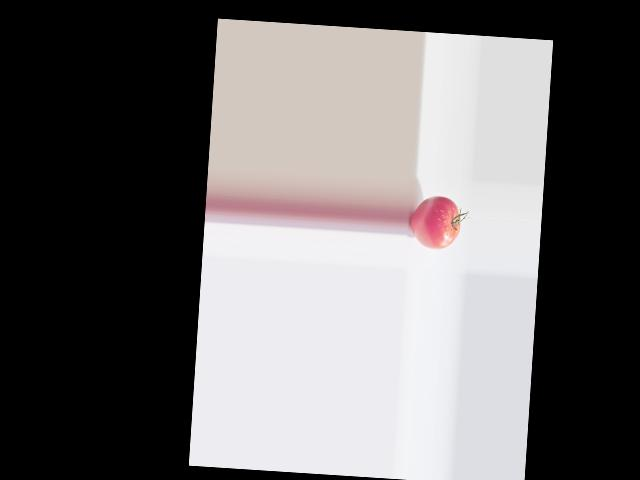tomato: (408, 194, 461, 251)
